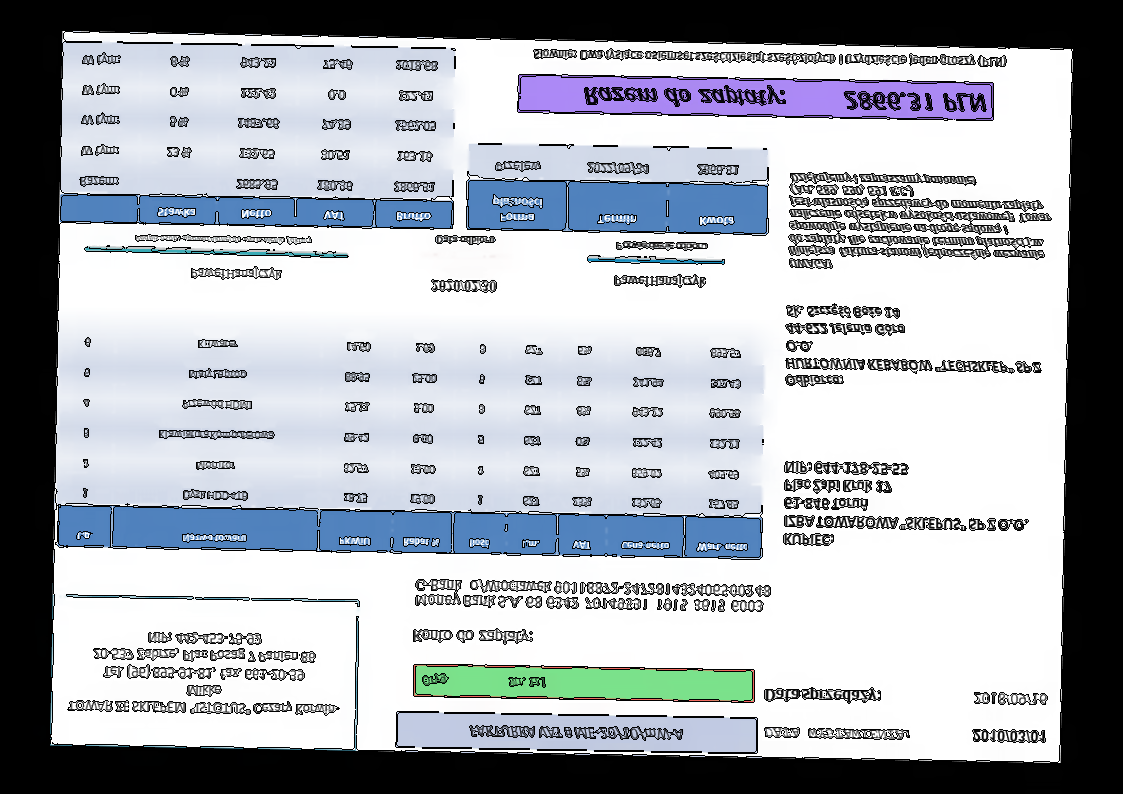Table: (55, 321, 766, 562), (60, 40, 457, 230), (466, 142, 770, 236)
TextBox: (787, 170, 1056, 276), (66, 629, 342, 717), (783, 302, 1042, 395), (781, 458, 1031, 554), (580, 80, 990, 117), (412, 577, 774, 614), (531, 44, 1009, 71), (468, 721, 687, 743), (763, 723, 913, 744), (132, 231, 313, 248), (410, 625, 534, 647), (763, 684, 884, 706), (420, 672, 548, 689), (612, 270, 707, 291), (188, 265, 283, 285), (969, 726, 1046, 746), (972, 689, 1051, 708), (613, 239, 710, 254), (430, 276, 497, 295), (433, 234, 496, 247)
